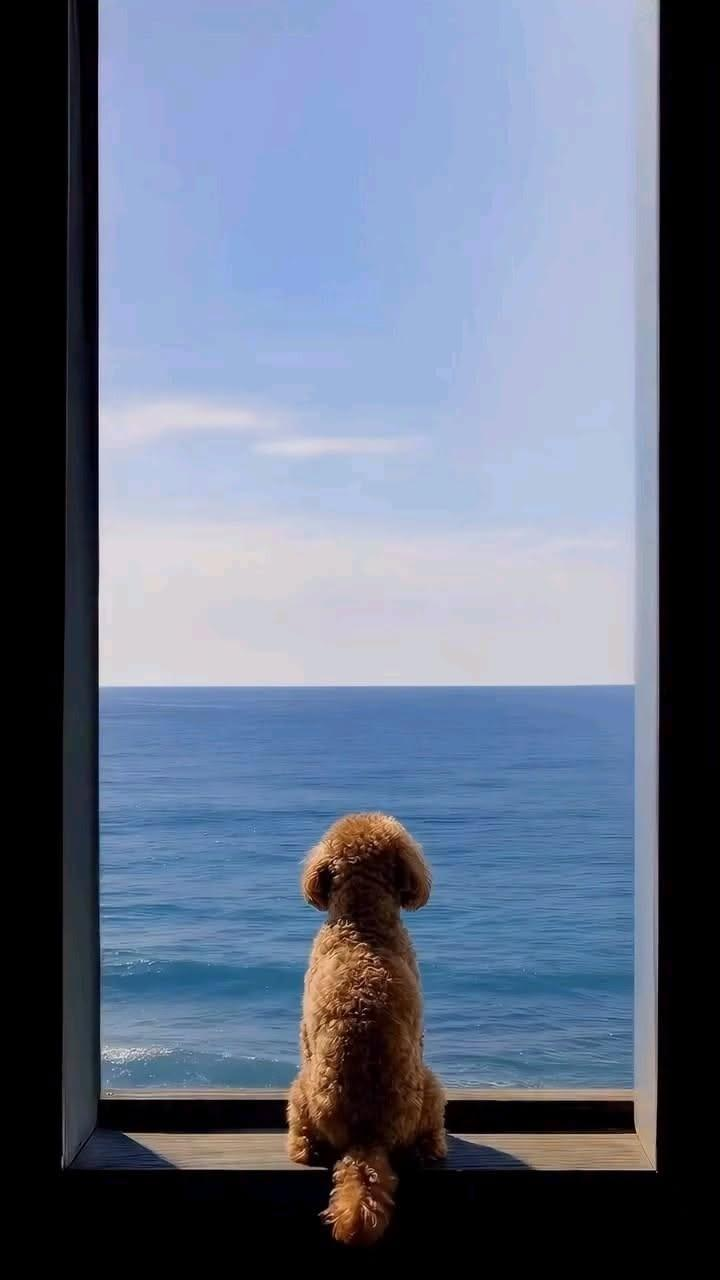adult_dog: (285, 811, 452, 1245)
